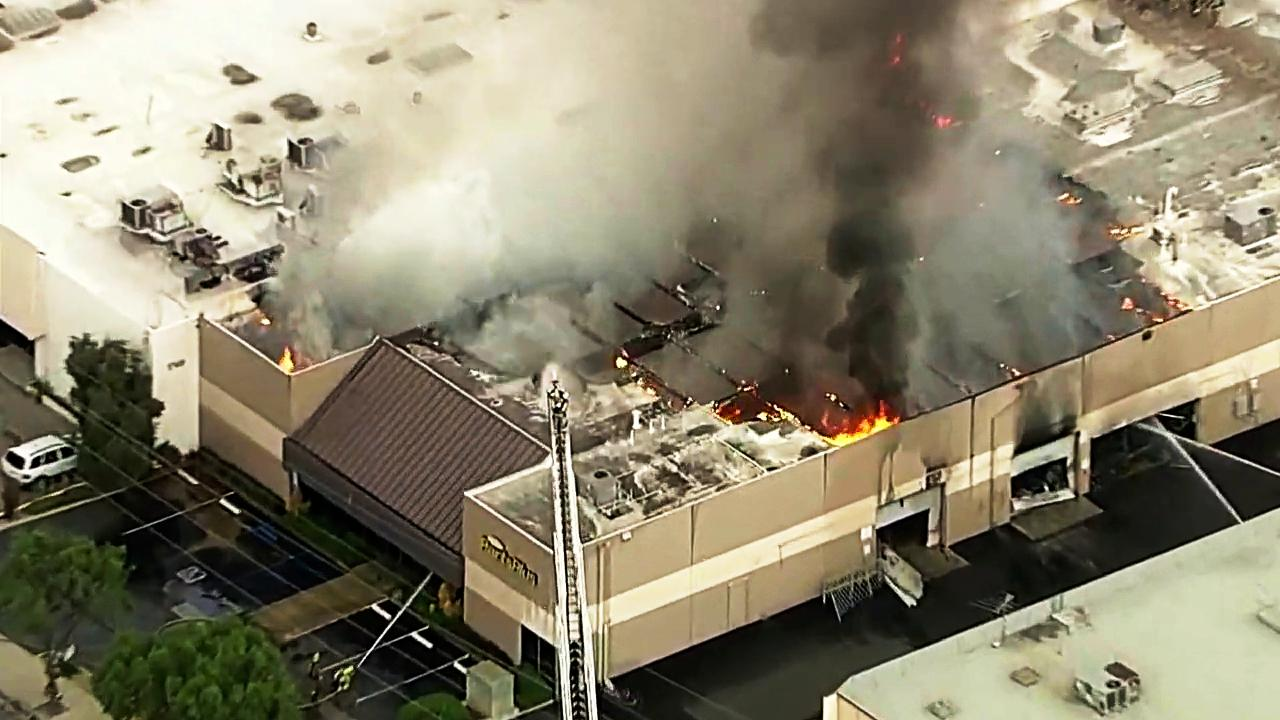smoke: (762, 0, 924, 375)
